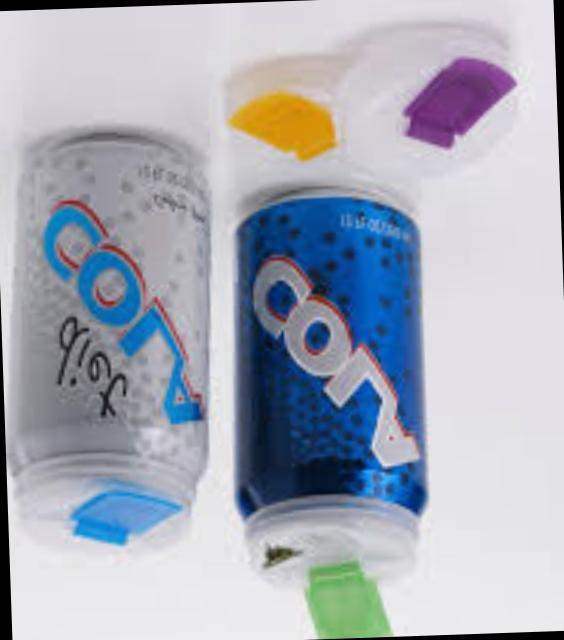metal: (231, 196, 420, 639), (5, 142, 202, 550)
